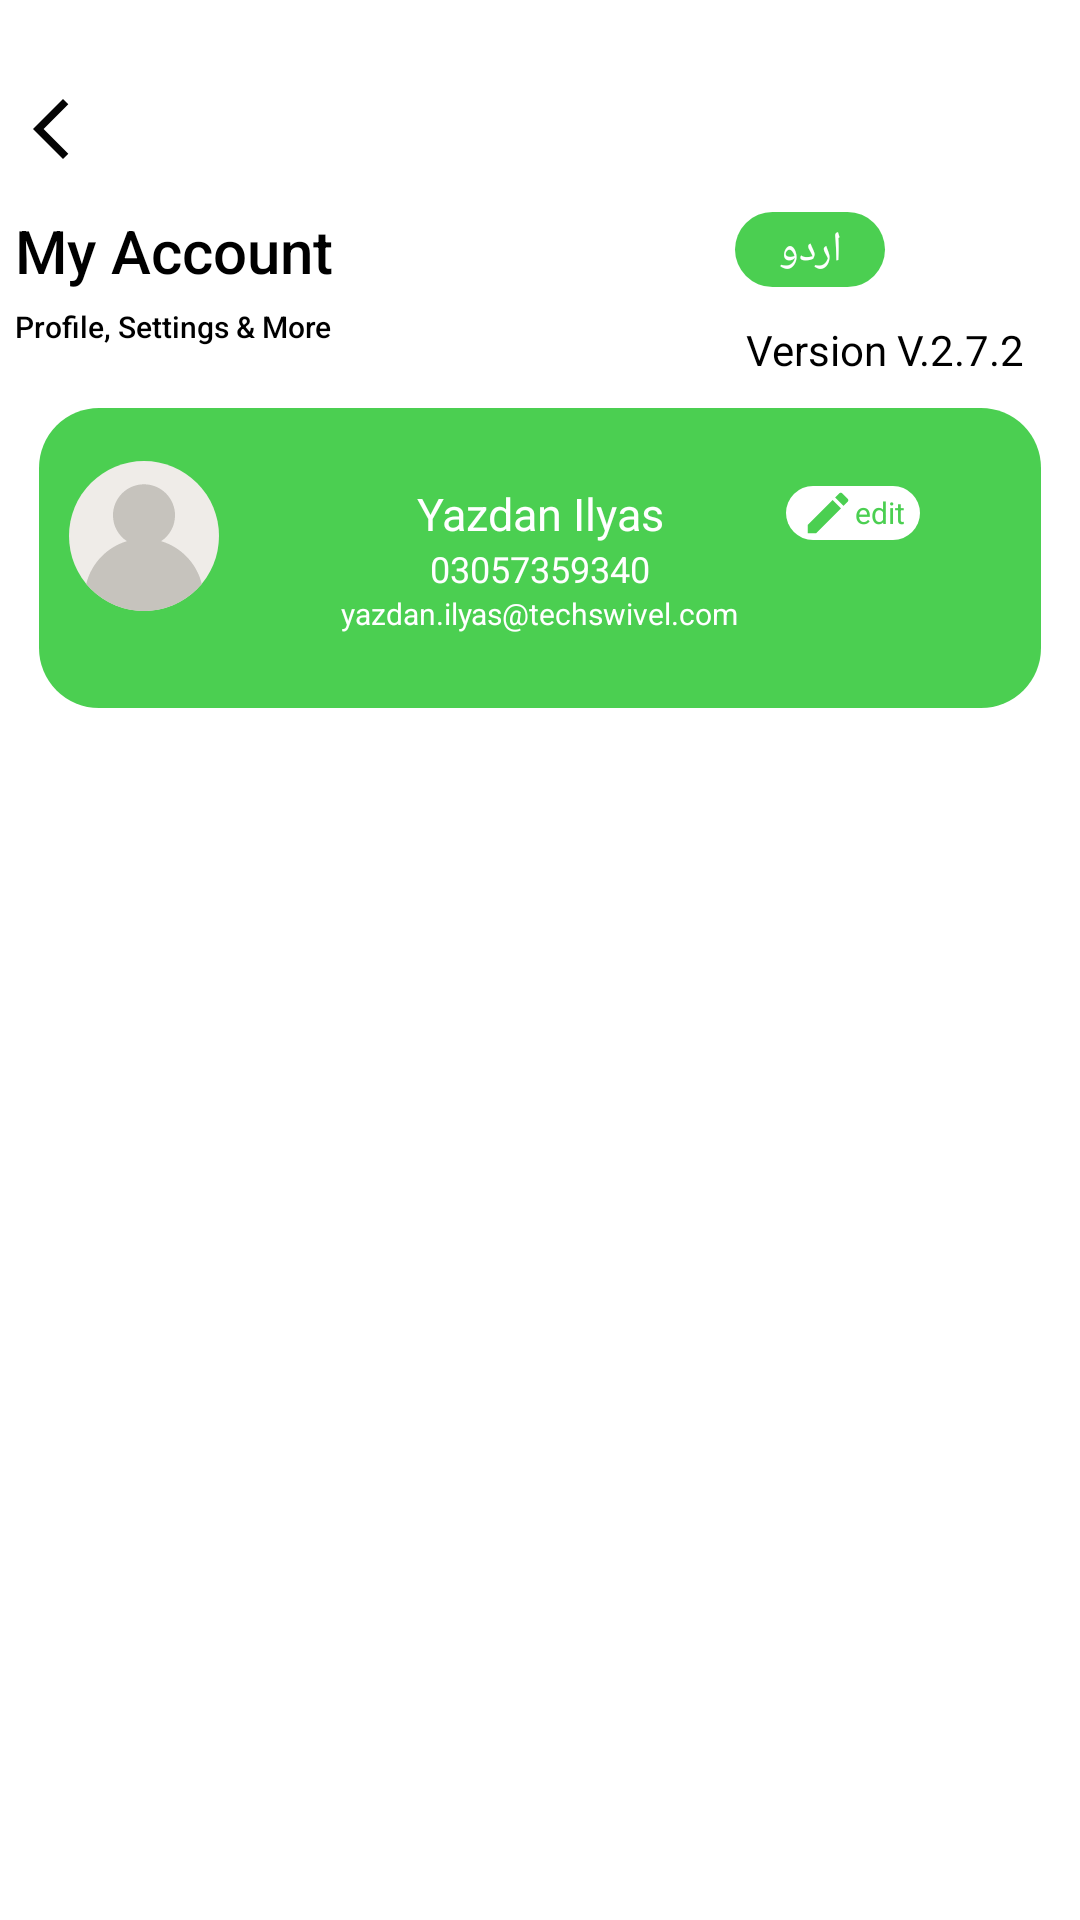

Named icons in this screenshot (1080 x 1920) and their centers, [x,y]:
back: [50,129]
user: [144,536]
